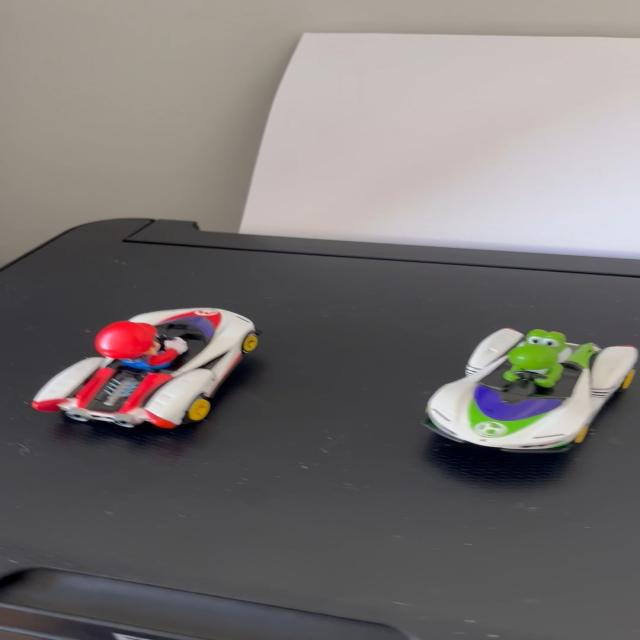mario: (13, 298, 278, 441)
yoshi: (412, 312, 640, 461)
